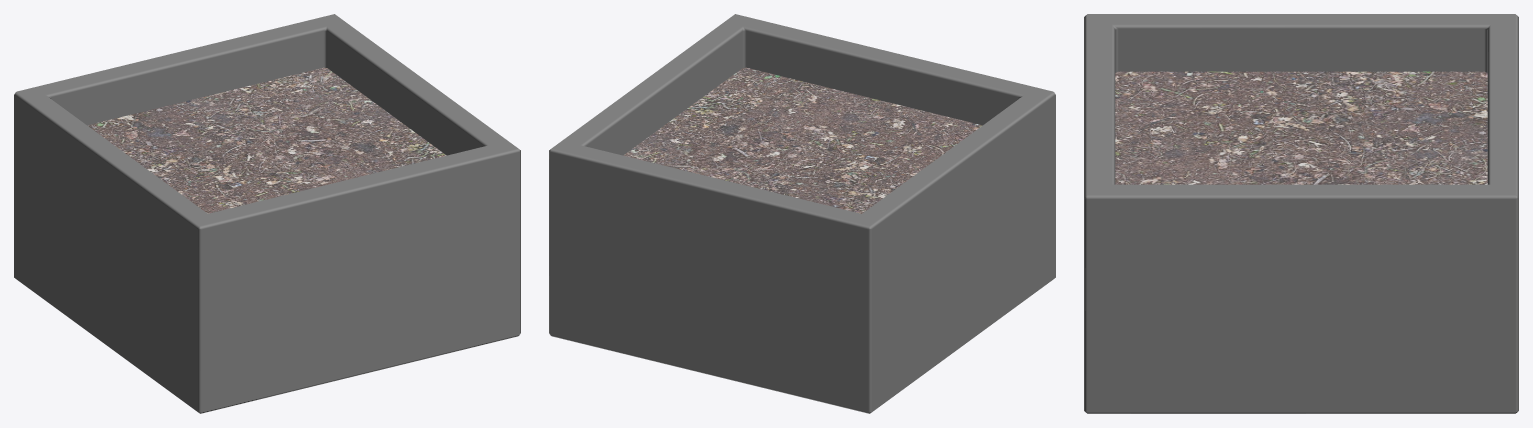
File: planter.glb
3 renders of one model, left to right at view 1: azimuth 30°, elevation 25°; view 2: azimuth 150°, elevation 25°; view 3: azimuth 270°, elevation 25°, orthographic. The views are drawn at different scales.
Parts seen in each view (by area): view 1: Tree planter; view 2: Tree planter; view 3: Tree planter.
Part boxes in pixels (x1,y1,x2,y2): Tree planter: (14, 14, 520, 413); Tree planter: (549, 14, 1055, 413); Tree planter: (1084, 14, 1518, 413).
Size of the model in its own units: 1.55 by 0.859 by 1.55.
Materials: 2 (1 with a texture image).
